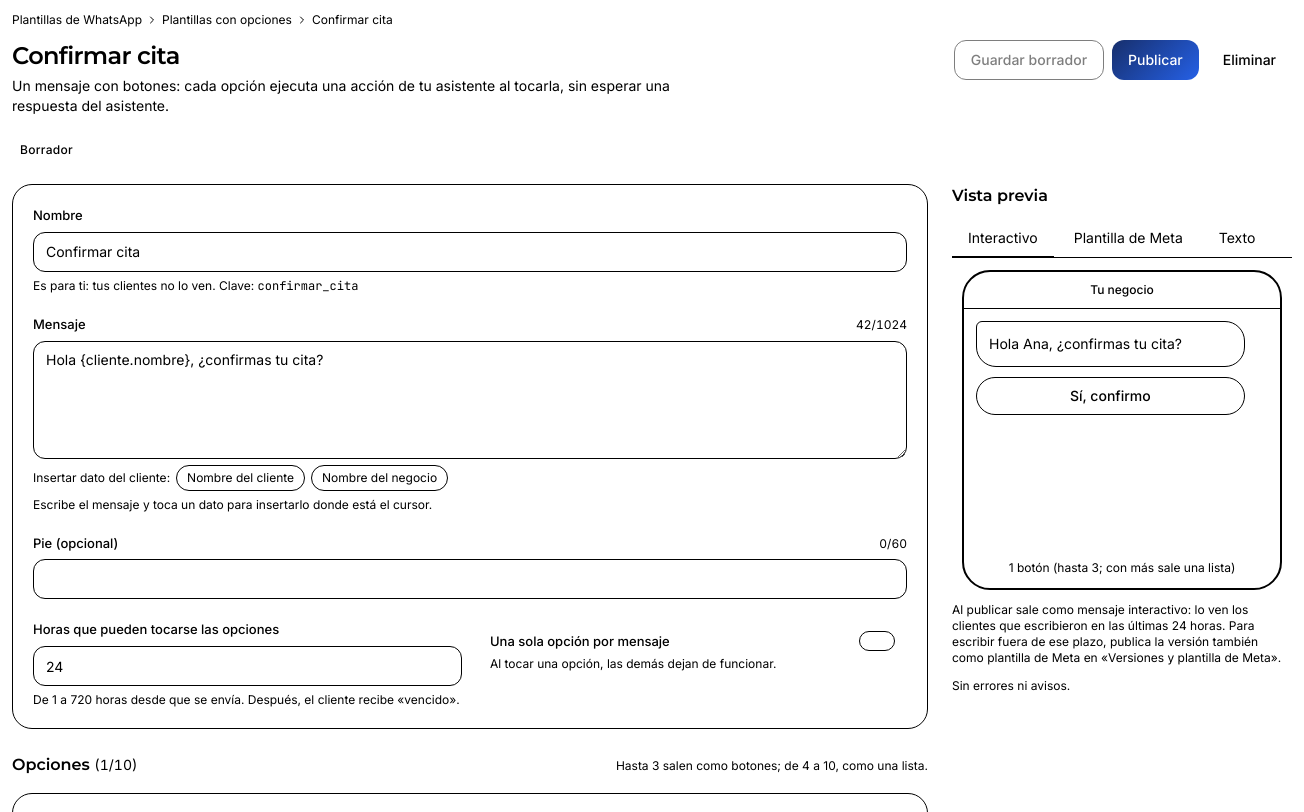
editor · guardar y publicar › publicar guarda primero el borrador y después publica
Expected: the button "Publicar" is enabled, left=1112, top=40, right=1199, bottom=80
Replace the text in the field labelled "Nombre" with "Confirmar cita v2": (470,252) left=33, top=232, right=907, bottom=272
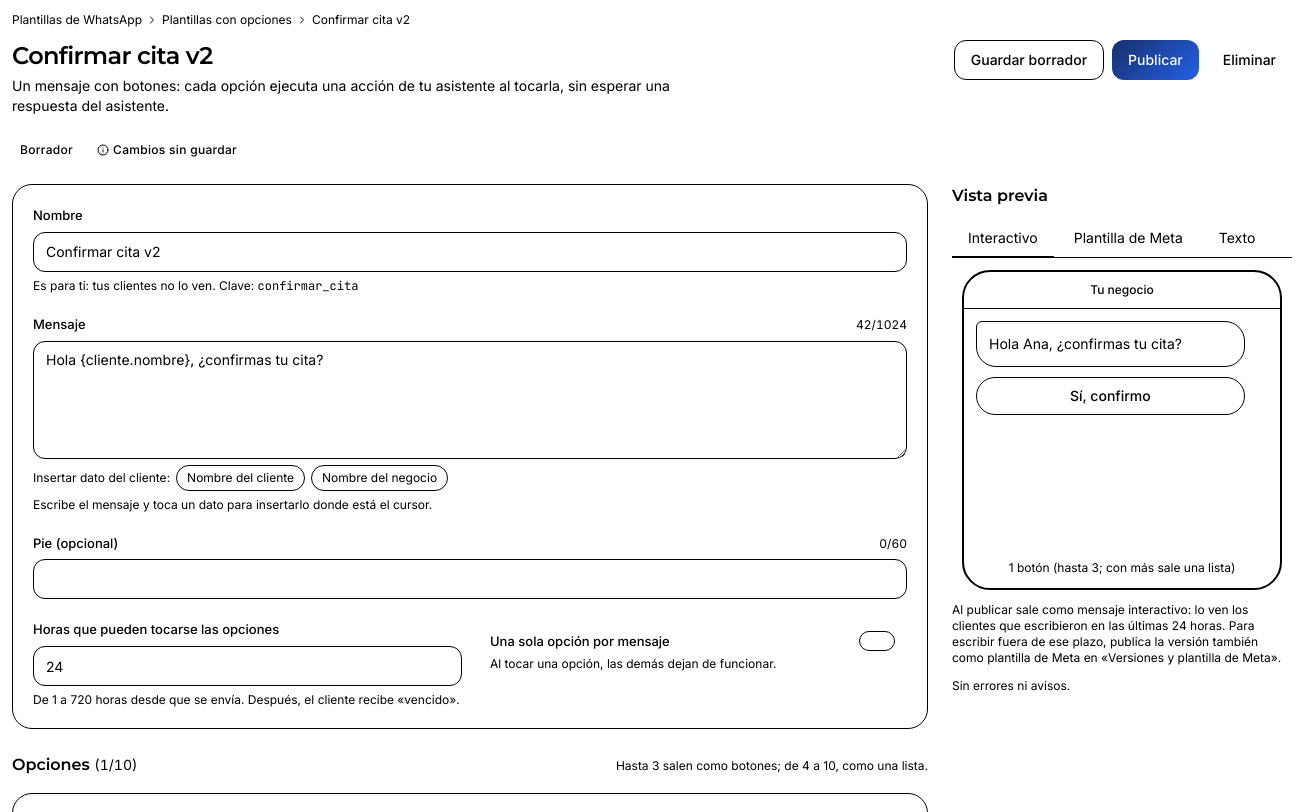
Click the button "Publicar": (1155,60) left=1112, top=40, right=1199, bottom=80
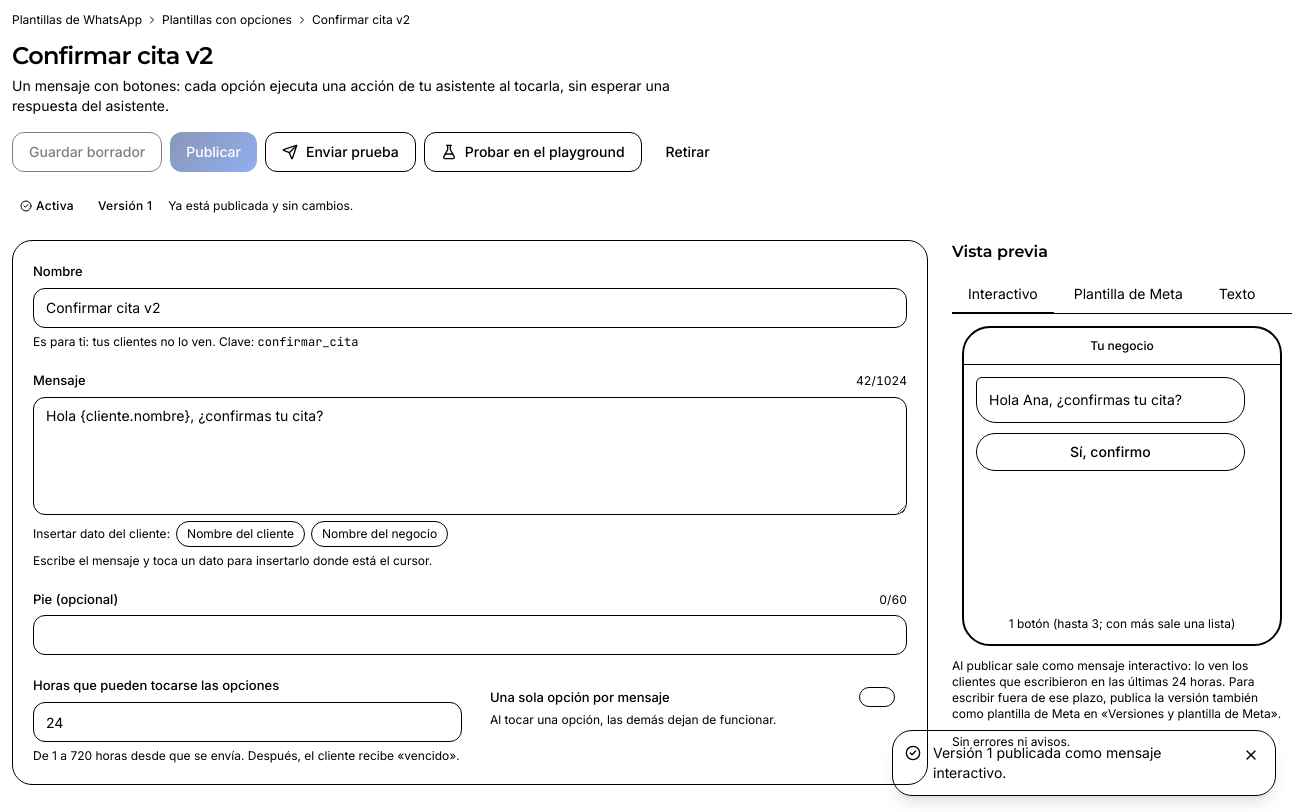
Expected: the text "Versión 1 publicada como mensaje interactivo." is shown, left=933, top=744, right=1162, bottom=781
Expected: the text "Activa" is shown, left=20, top=198, right=74, bottom=213
